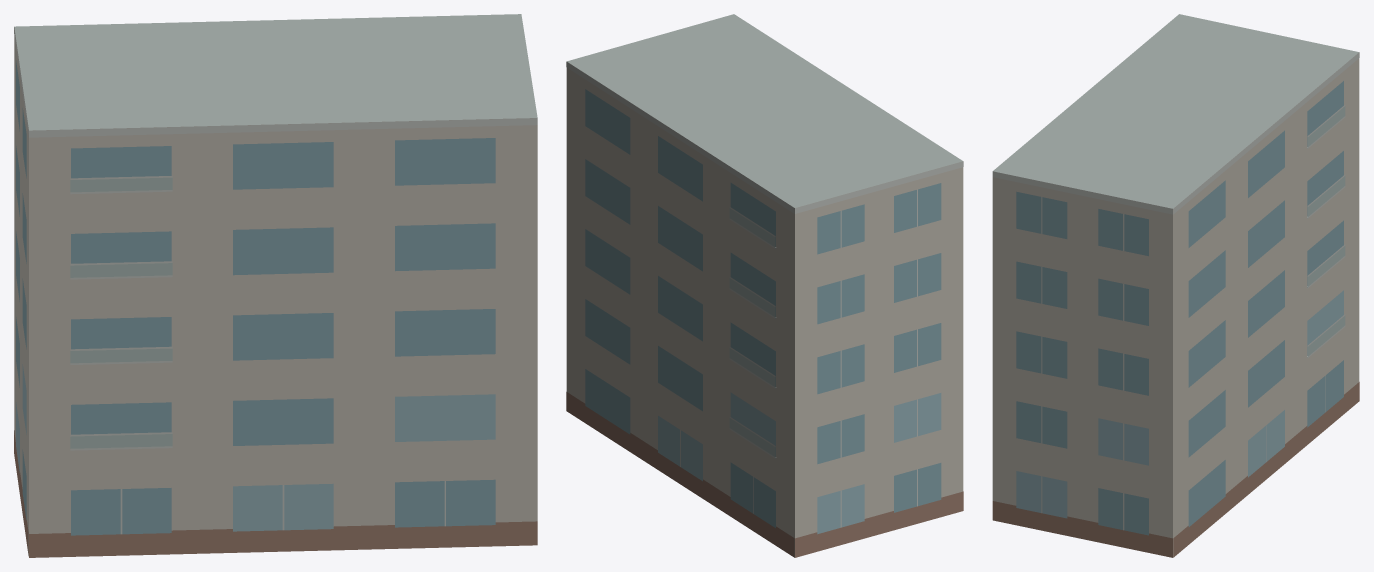
The model's file is survey-upis-32884389.glb.
3 renders of one model, left to right at view 1: azimuth 30°, elevation 25°; view 2: azimuth 150°, elevation 25°; view 3: azimuth 270°, elevation 25°, orthographic. The views are drawn at different scales.
Parts seen in each view (by area): view 1: survey-upis-32884389.tmp; view 2: survey-upis-32884389.tmp; view 3: survey-upis-32884389.tmp.
Part boxes in pixels (box(x1,y1,x2,y2)): survey-upis-32884389.tmp: box(14, 14, 537, 557); survey-upis-32884389.tmp: box(566, 14, 963, 557); survey-upis-32884389.tmp: box(992, 14, 1359, 557).
Size of the model in its own units: 17.36 by 14.5 by 13.82.
